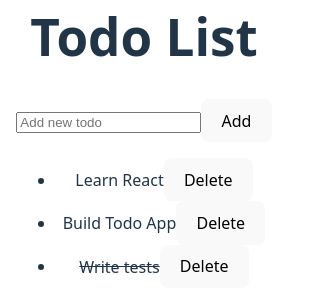
TodoList › deletes todo
Click the button "Delete" next to "Learn React" at coordinates (208, 180), box [164,158,253,202]
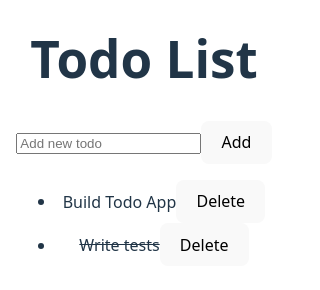
Expected: the text "Learn React" is gone
